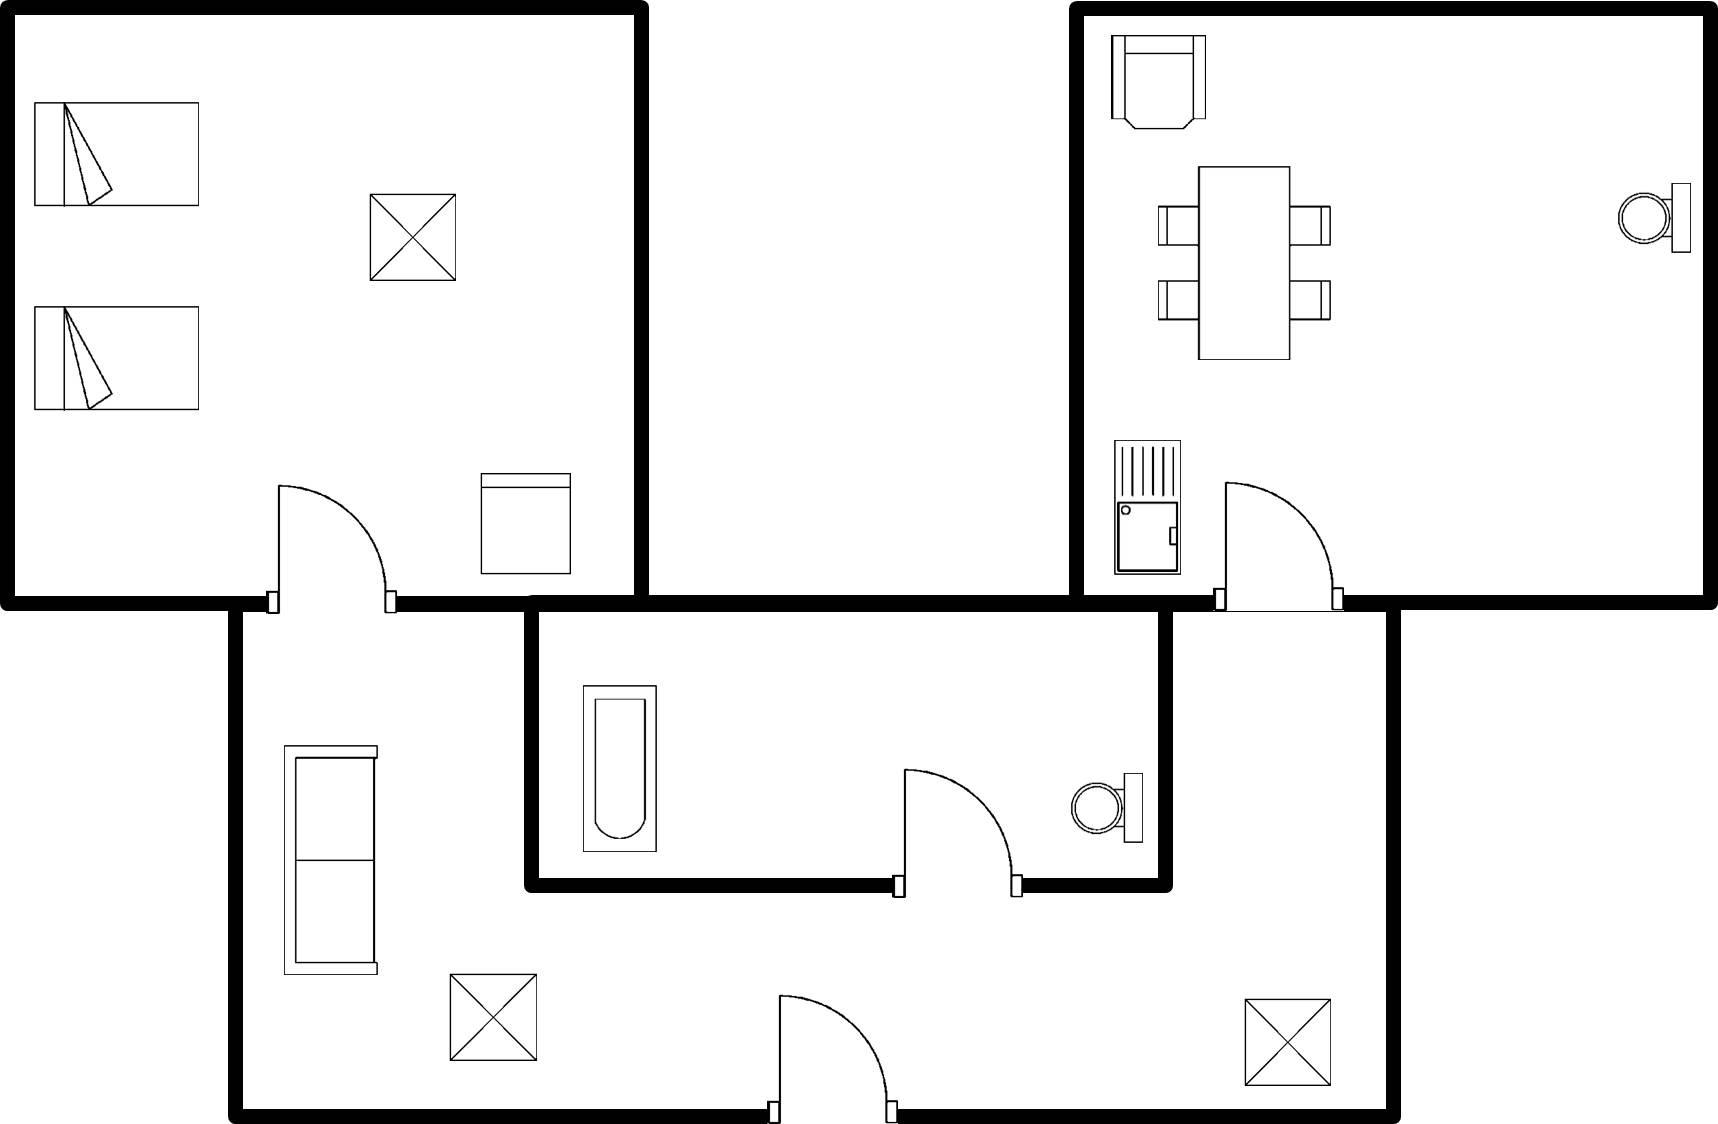bed: (24, 296, 208, 420), (23, 92, 208, 215)
dining_table: (1147, 157, 1334, 374)
sink: (1104, 430, 1194, 580)
toilet: (1061, 763, 1150, 852), (1609, 174, 1698, 263)
tub: (572, 672, 666, 861)
